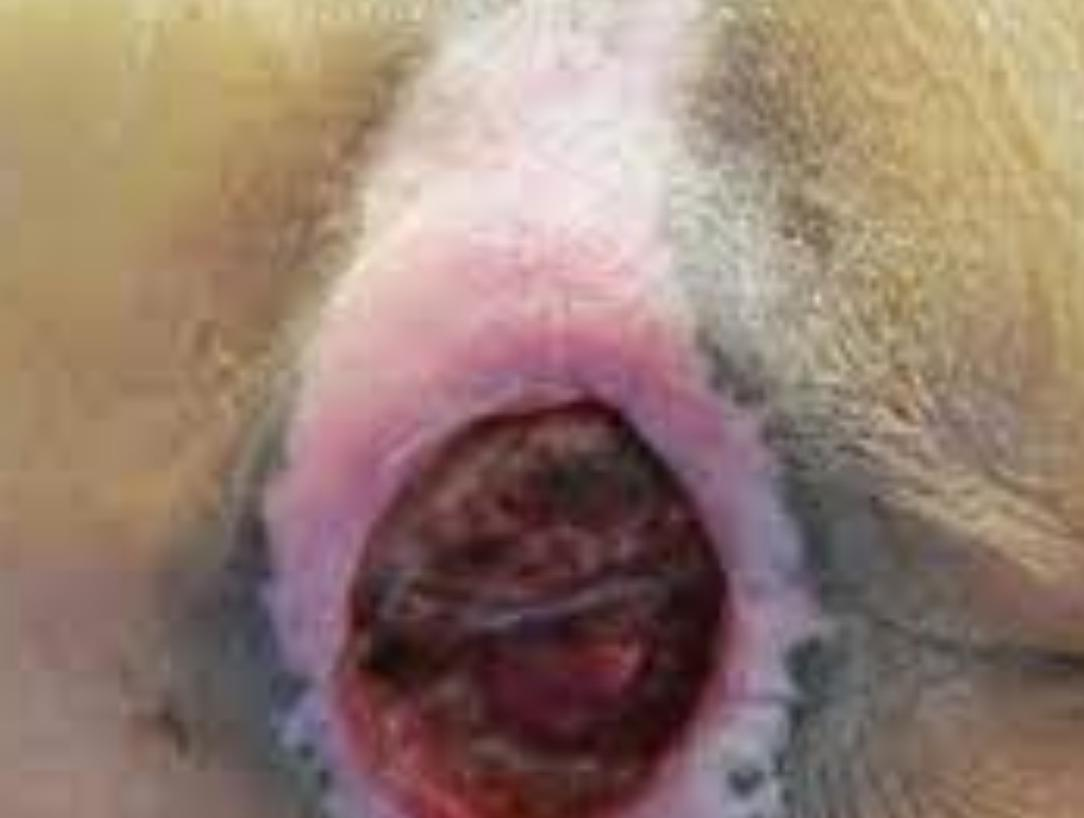Stage2: (222, 388, 798, 818)
